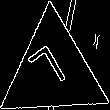L_SE: (29, 41, 77, 101)
